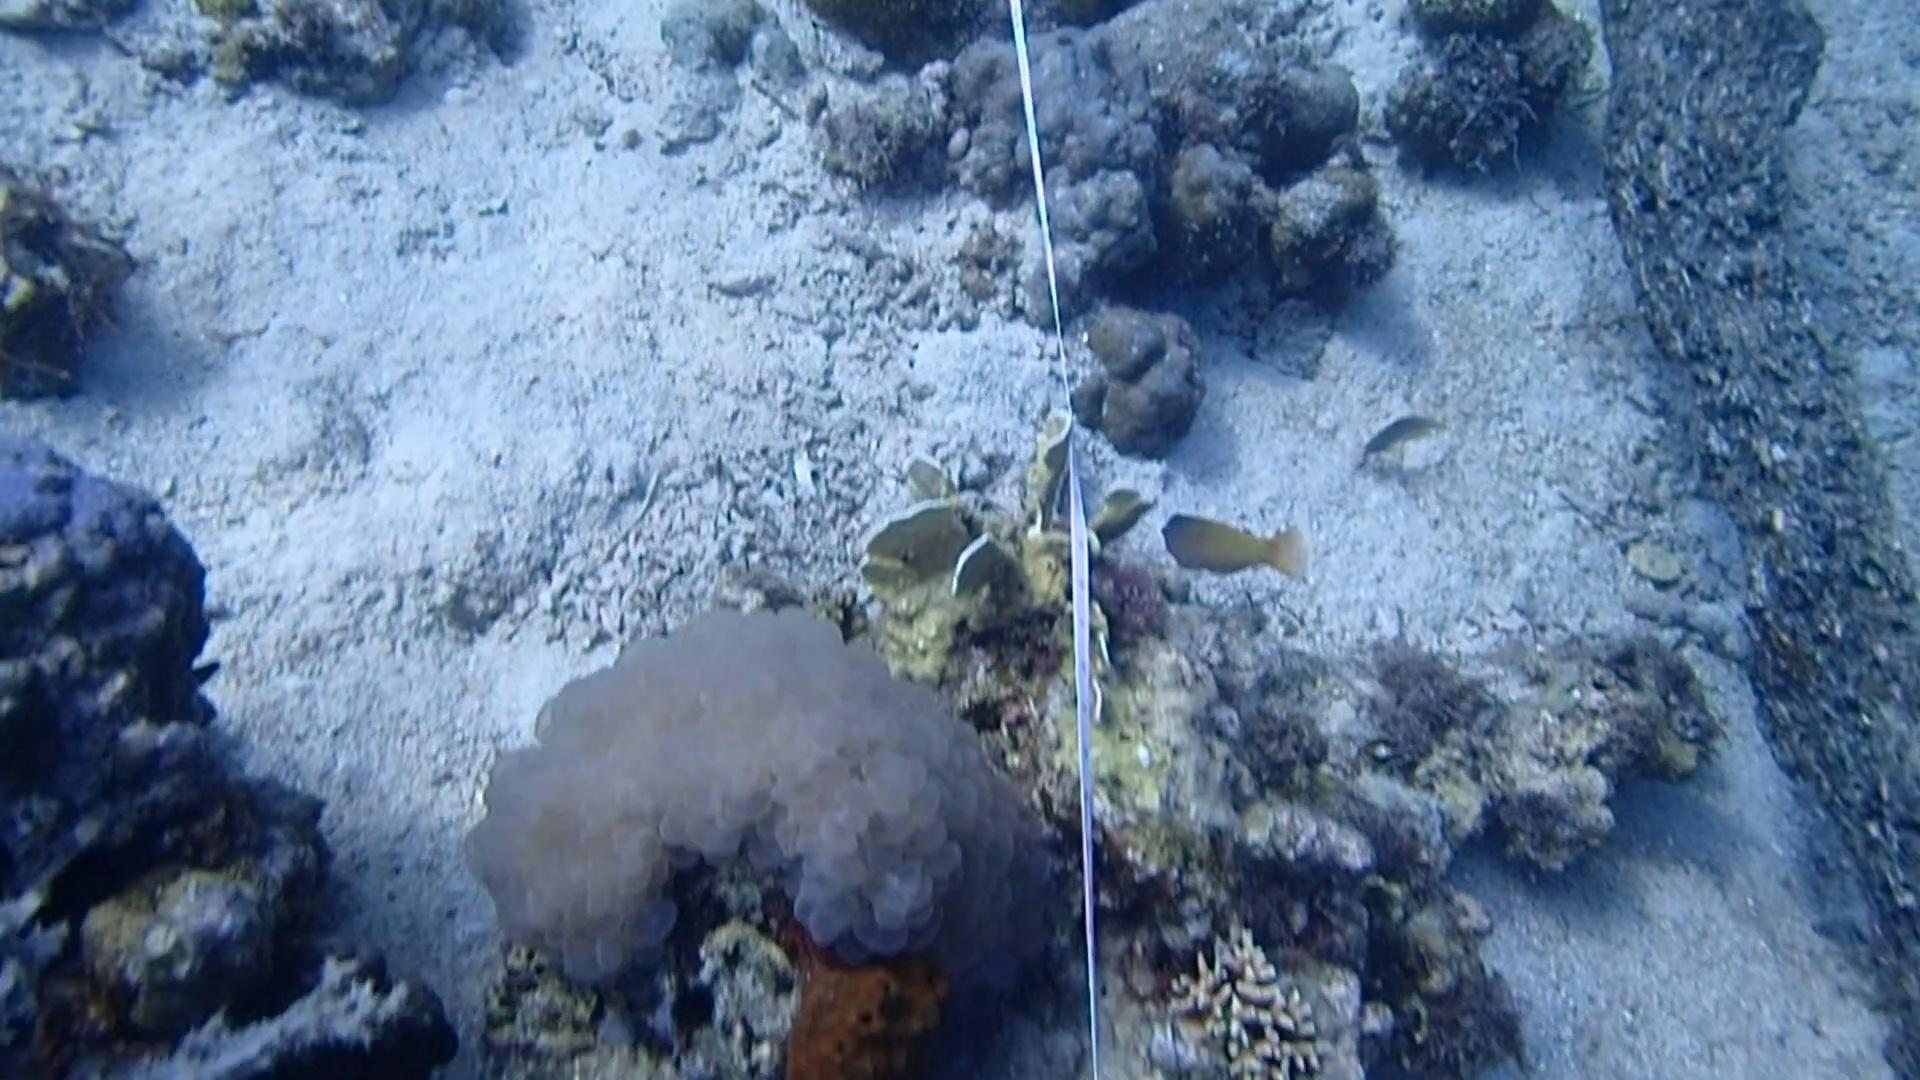Light Fish: (1346, 397, 1457, 468)
Yellow-Blue Fish: (1156, 501, 1320, 591)
